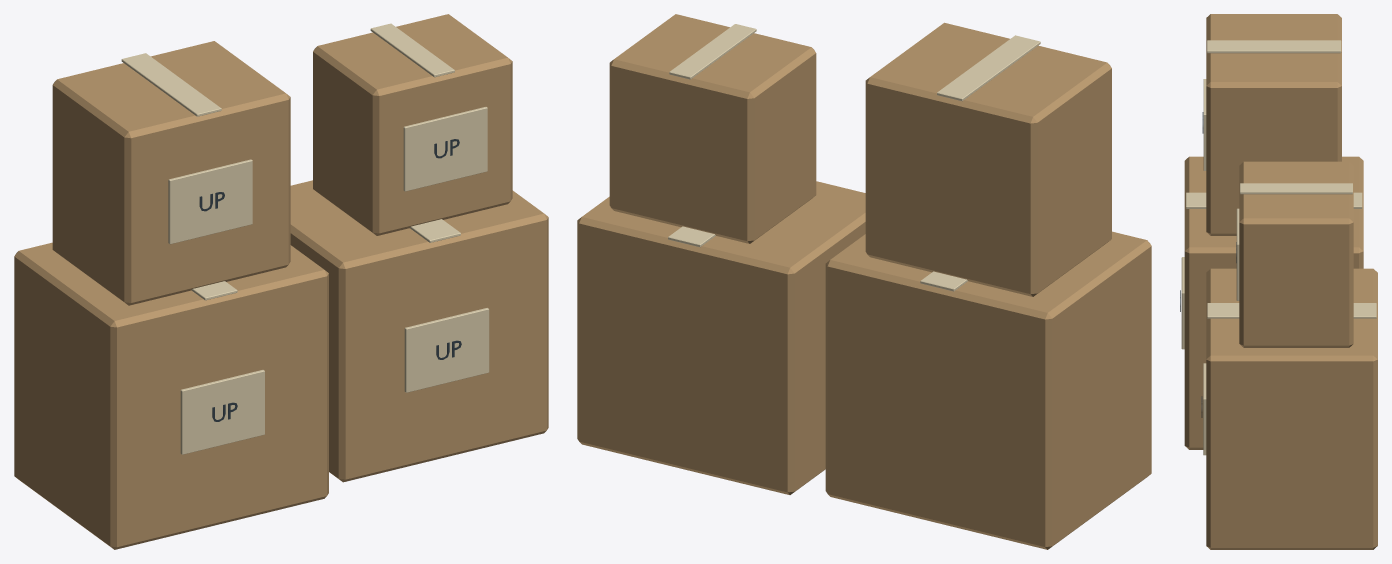
The model's file is Cardboard_Box_Stack.glb.
The picture shows the model from 3 angles, left to right: view 1: azimuth 30°, elevation 25°; view 2: azimuth 150°, elevation 25°; view 3: azimuth 270°, elevation 25°; orthographic projection. The views are drawn at different scales.
Visible parts, largest first — view 1: Cardboard_Box_Stack; view 2: Cardboard_Box_Stack; view 3: Cardboard_Box_Stack.
Part boxes in pixels (x1,y1,x2,y2): Cardboard_Box_Stack: (14,14,548,549); Cardboard_Box_Stack: (577,14,1151,549); Cardboard_Box_Stack: (1180,14,1377,549).
Bounding box in the file's own units: 1.03 × 0.886 × 0.4422.
